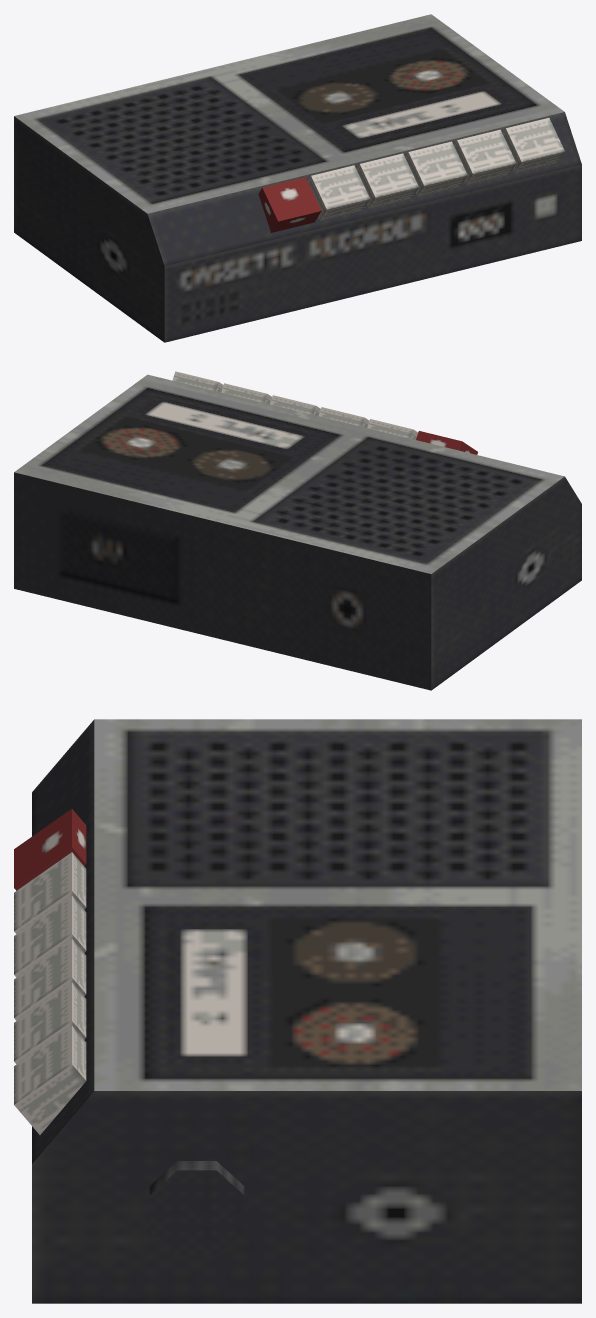
File: cassette_player.obj
The picture shows the model from 3 angles, top to bottom: view 1: azimuth 30°, elevation 25°; view 2: azimuth 150°, elevation 25°; view 3: azimuth 270°, elevation 25°; orthographic projection. The views are drawn at different scales.
Visible parts, largest first — view 1: cassette_player; view 2: cassette_player; view 3: cassette_player.
Part boxes in pixels (<box>): cassette_player: <box>14,14,581,342</box>; cassette_player: <box>14,371,581,690</box>; cassette_player: <box>14,719,581,1303</box>.
Bounding box in the file's own units: 0.246 × 0.0662 × 0.1549.
1 material, 1 textured.
